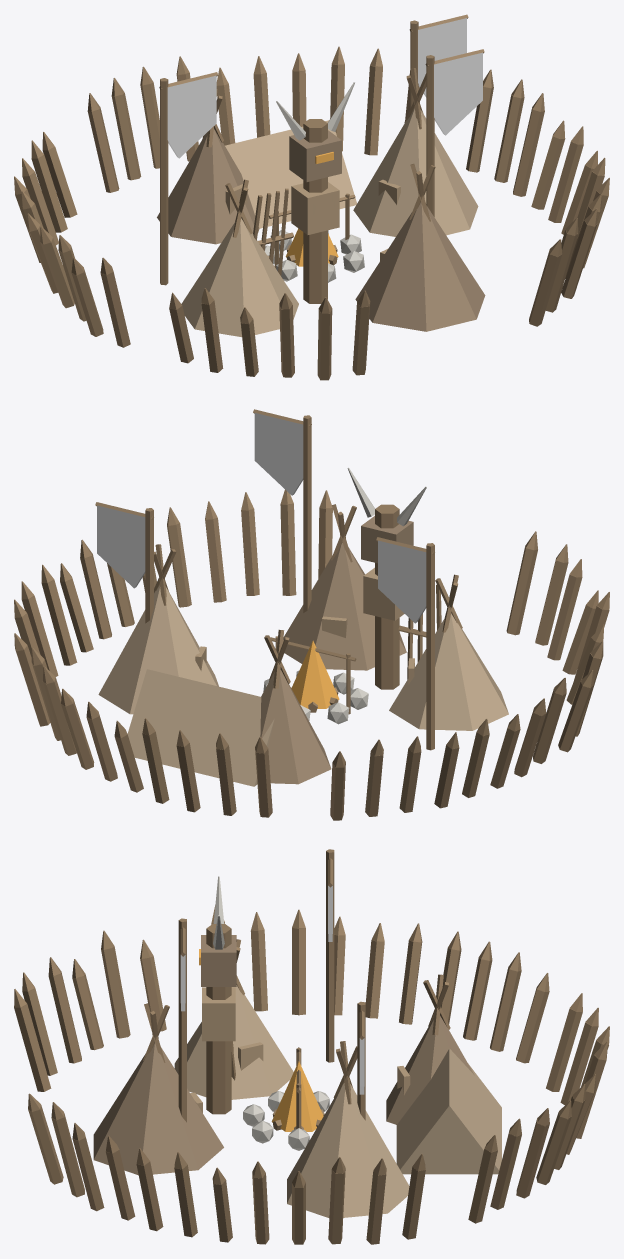
File: civ_barbarian_camp.glb
3 renders of one model, top to bottom at view 1: azimuth 30°, elevation 25°; view 2: azimuth 150°, elevation 25°; view 3: azimuth 270°, elevation 25°, orthographic. The views are drawn at different scales.
Parts seen in each view (by area): view 1: civ_barbarian_camp; view 2: civ_barbarian_camp; view 3: civ_barbarian_camp.
Part boxes in pixels (bbox=[...]): civ_barbarian_camp: bbox=[14, 14, 609, 380]; civ_barbarian_camp: bbox=[14, 409, 609, 820]; civ_barbarian_camp: bbox=[14, 849, 609, 1244].
Size of the model in its own units: 2.89 by 1.27 by 2.83.
